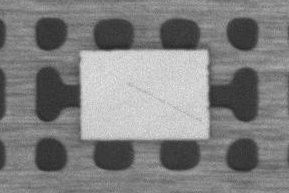DIE_CRACK: (192, 55, 289, 81)
